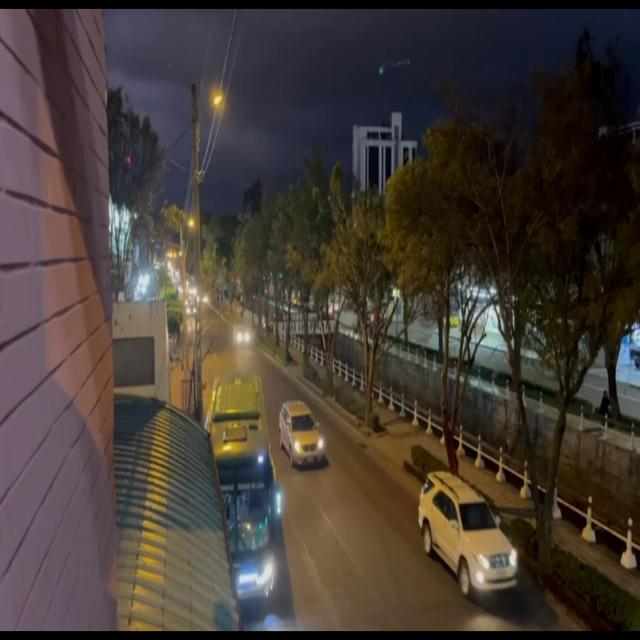BUS: (212, 377, 282, 599)
SUV: (426, 480, 519, 597)
